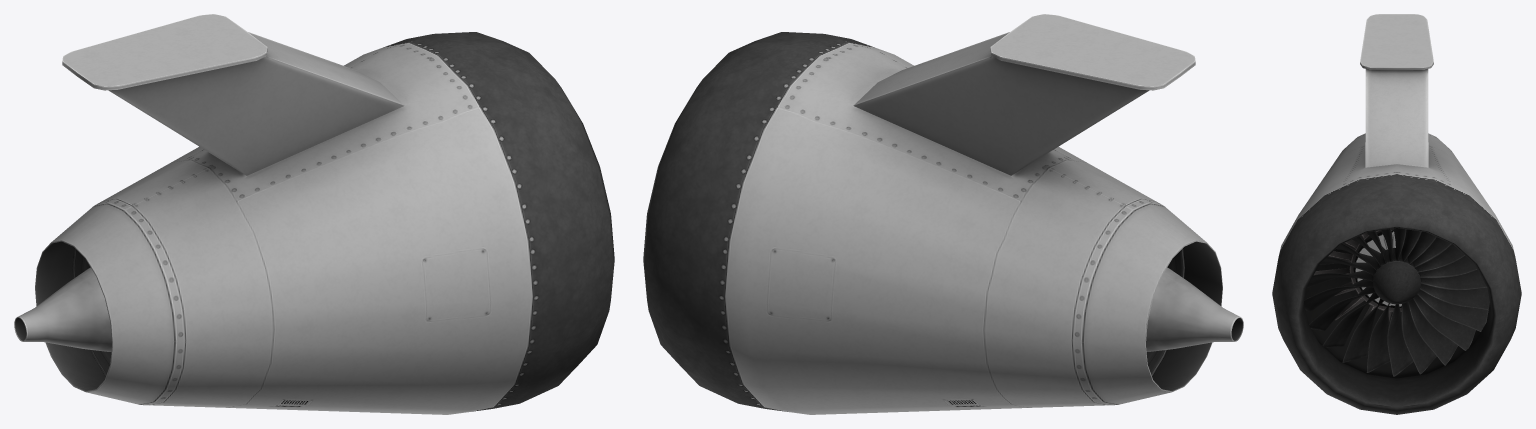
Rendered from jet_engine_low2.glb.
3 views of the same model, side by side, from view 1: azimuth 30°, elevation 25°; view 2: azimuth 150°, elevation 25°; view 3: azimuth 270°, elevation 25° (orthographic). The views are drawn at different scales.
Visible parts, largest first — view 1: Object_2; view 2: Object_2; view 3: Object_2.
Boxes of the visible parts, <box> form: Object_2: <box>14,14,614,414</box>; Object_2: <box>643,14,1243,414</box>; Object_2: <box>1272,14,1521,414</box>.
Bounding box in the file's own units: 64.77 × 49.87 × 41.71.
1 material, 1 textured.
